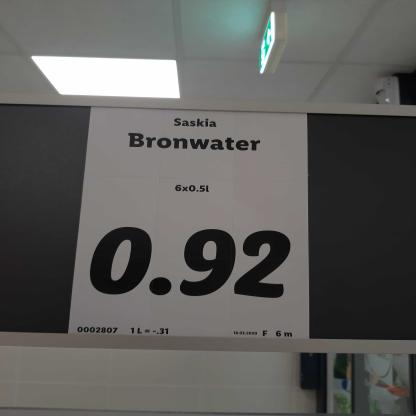prtg: (68, 108, 311, 340)
